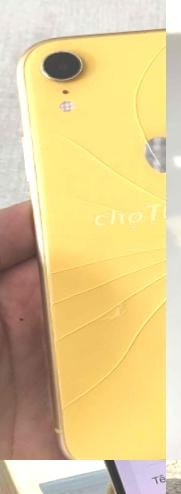physical_damage: (30, 19, 166, 460)
